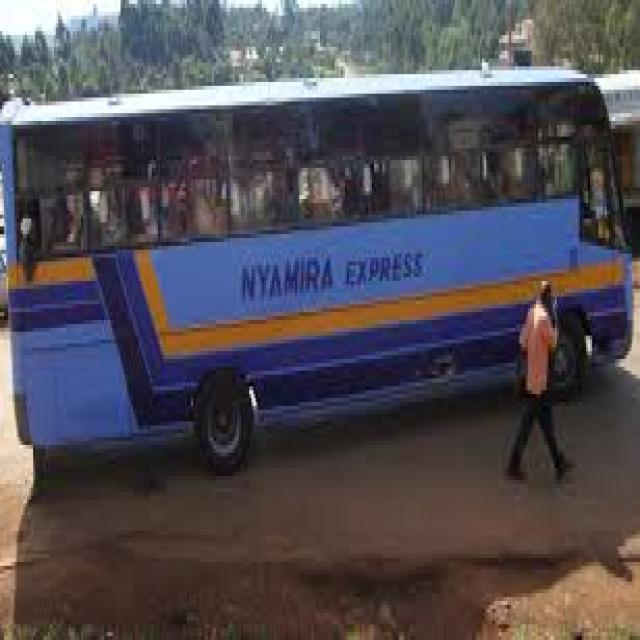bus: (0, 52, 640, 494)
